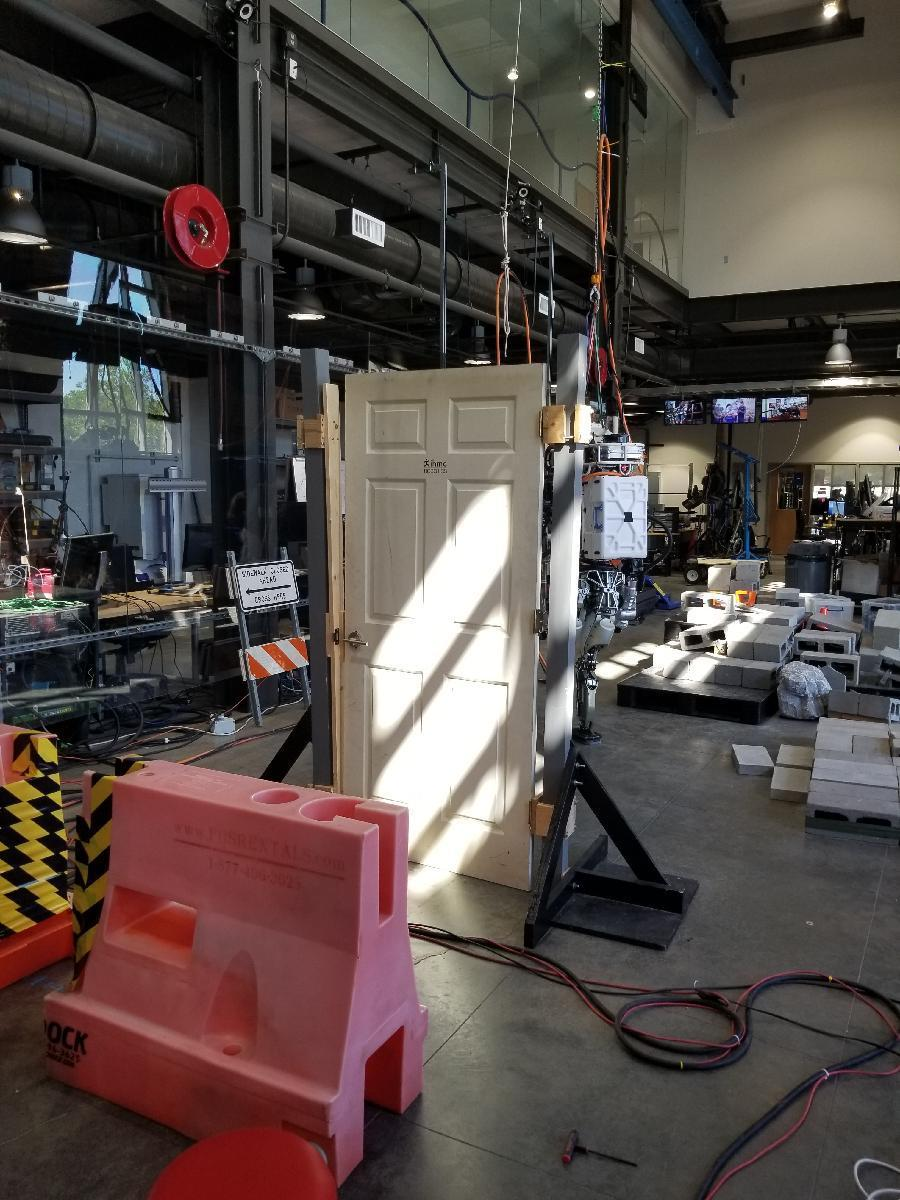door: (354, 376, 538, 884)
handle: (344, 626, 371, 654)
